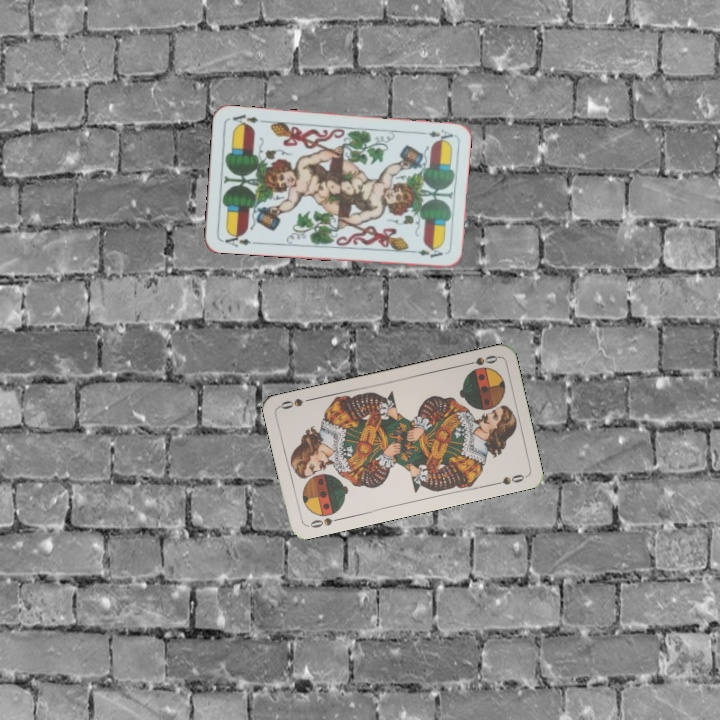EA: (415, 125, 455, 143), (218, 229, 253, 249)
SO: (303, 508, 344, 530), (460, 351, 500, 368)
